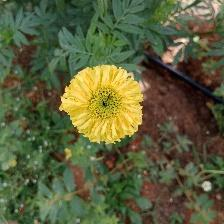marigold: (60, 62, 149, 145)
